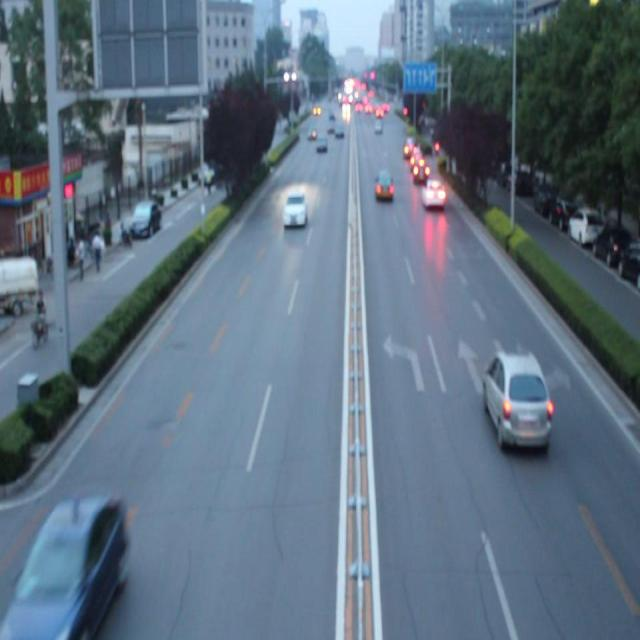car: (1, 492, 128, 640), (482, 348, 552, 450), (283, 190, 306, 228), (420, 176, 446, 207), (374, 165, 393, 200)
